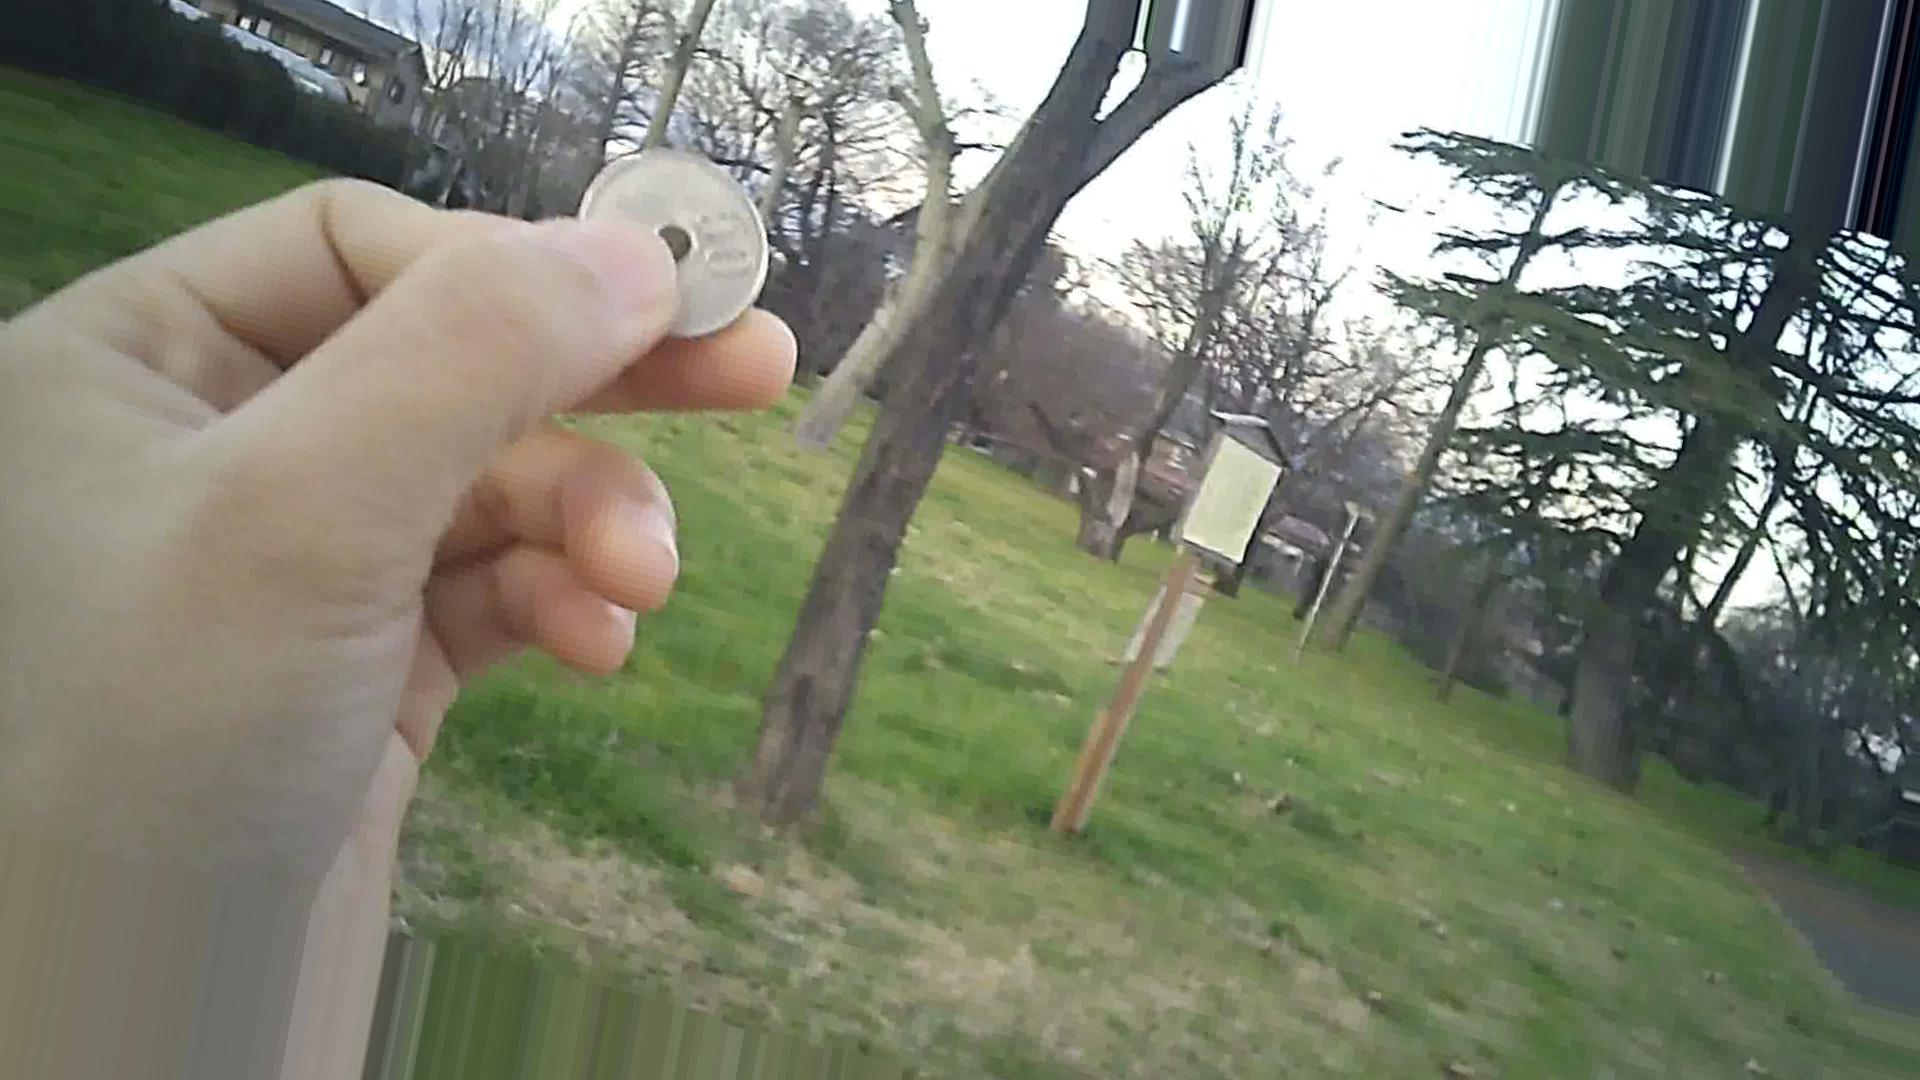50 Yen: (556, 135, 798, 334)
